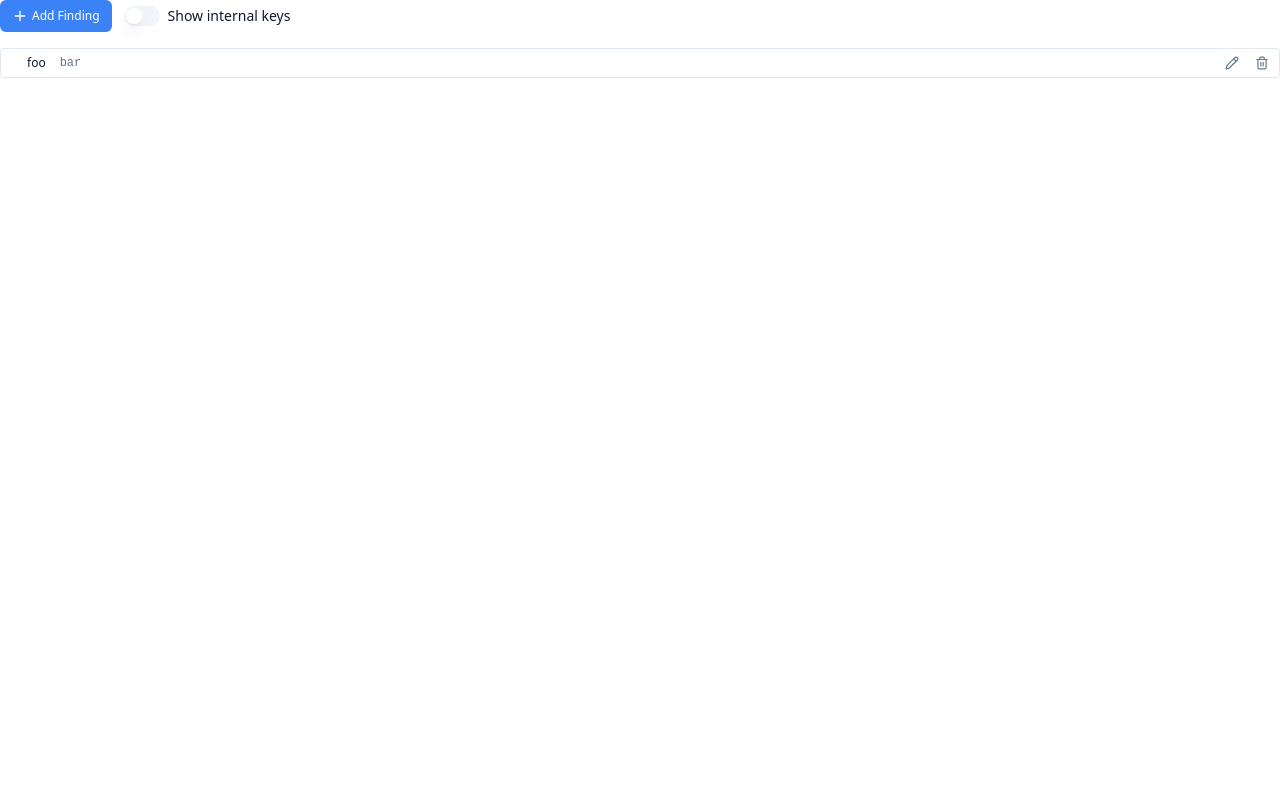
Scenario: ProjectFindingsTab › Delete Finding › opens ConfirmDialog when delete button is clicked
The image size is (1280, 800).
Click the button titled "Delete": (1262, 63) x1=1249 y1=50 x2=1275 y2=76
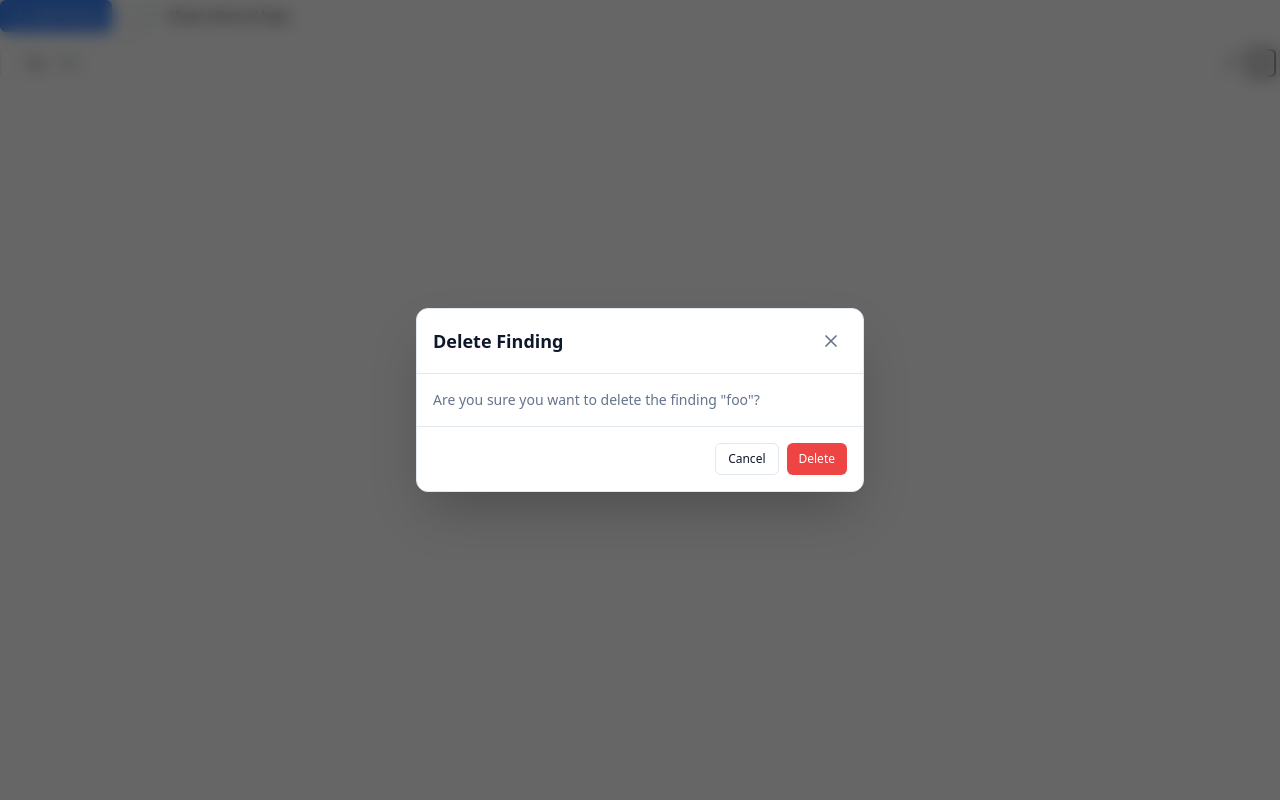
Result: the heading "Delete Finding" is shown at x1=433 y1=329 x2=564 y2=353
Result: the text "Are you sure you want to delete the finding \"foo\"?" is shown at x1=433 y1=390 x2=760 y2=409
